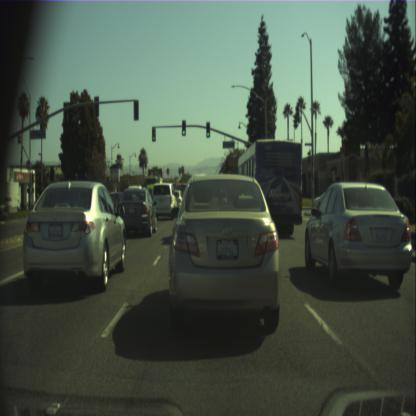Green: (182, 120, 186, 135), (206, 122, 210, 136)
GreenLeft: (152, 127, 156, 140)
